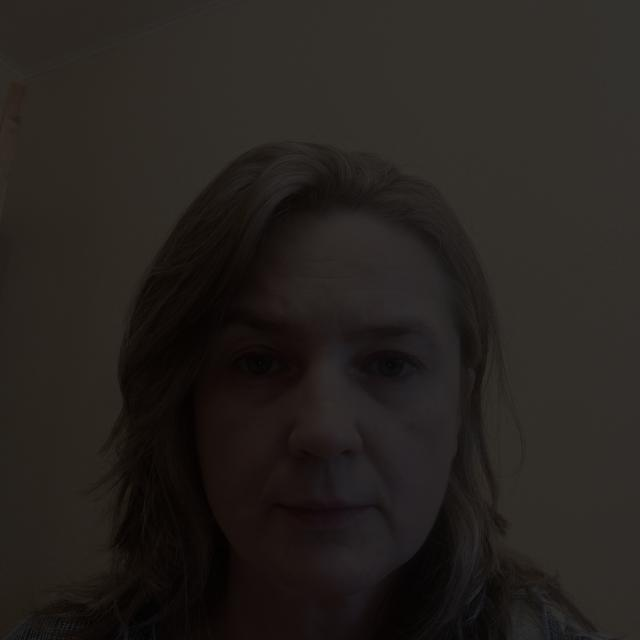Natural: (127, 159, 486, 592)
